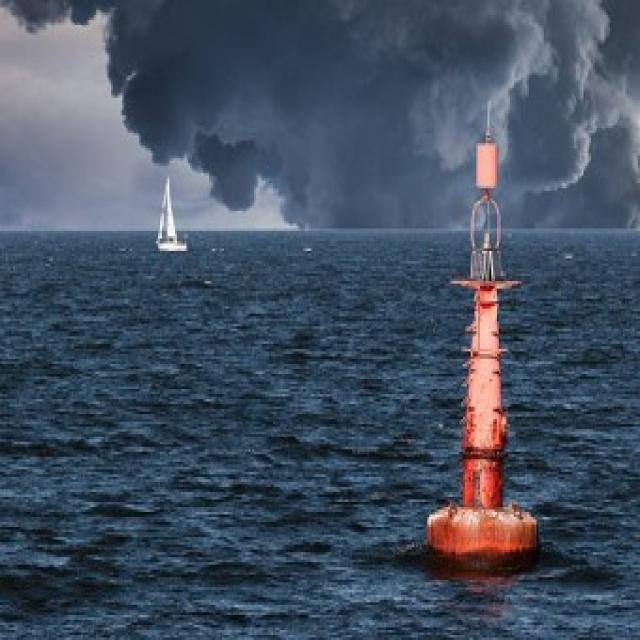marque: (420, 87, 551, 574)
